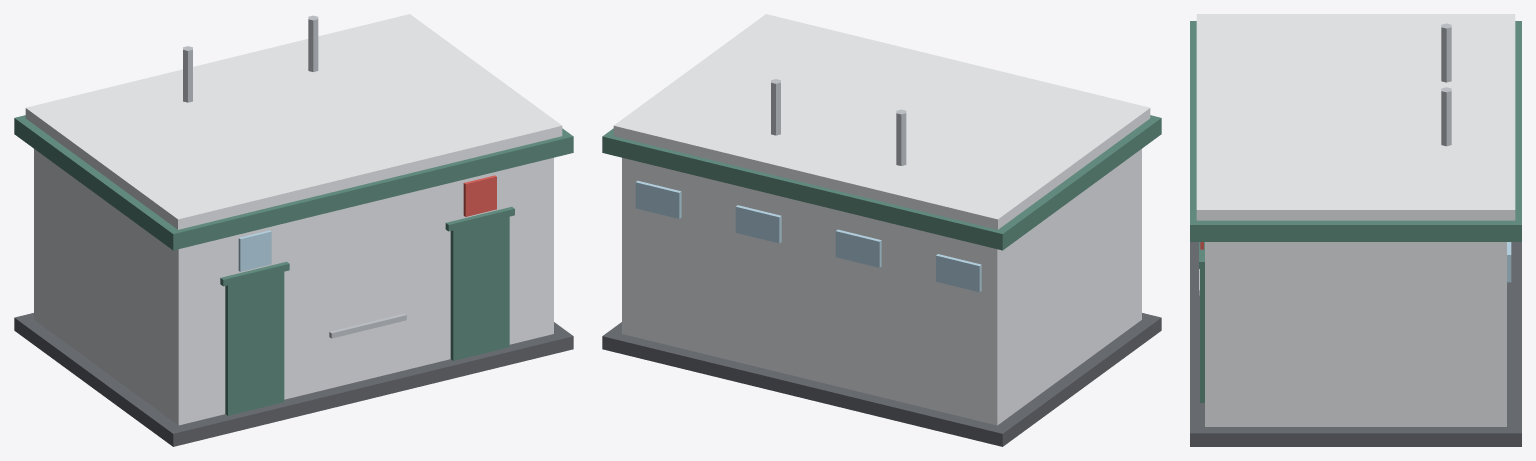
File: ski-resort-and-snow-park-toilet-block-8500bcb6__25996.glb
3 views of the same model, side by side, from view 1: azimuth 30°, elevation 25°; view 2: azimuth 150°, elevation 25°; view 3: azimuth 270°, elevation 25° (orthographic). The views are drawn at different scales.
Parts seen in each view (by area): view 1: toilet-block; view 2: toilet-block; view 3: toilet-block.
Boxes of the visible parts, x1=… form: toilet-block: x1=14, y1=14, x2=573, y2=446; toilet-block: x1=602, y1=14, x2=1161, y2=446; toilet-block: x1=1190, y1=14, x2=1521, y2=446.
Size of the model in its own units: 6.4 by 4.2 by 4.4.
